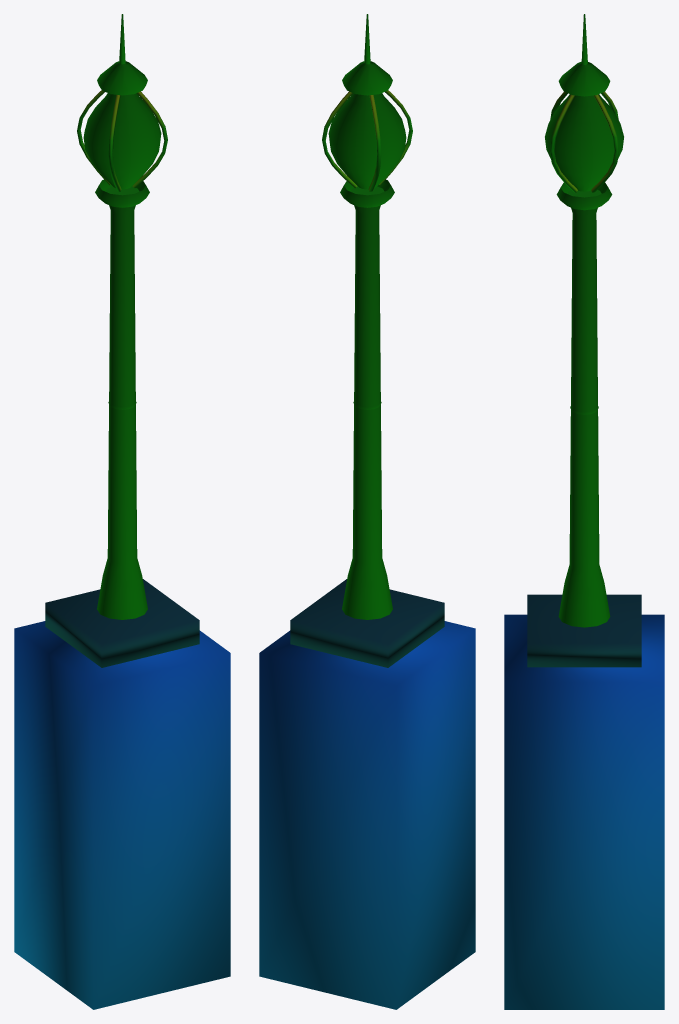
The model's file is gold_lamp_post.glb.
3 renders of one model, left to right at view 1: azimuth 30°, elevation 25°; view 2: azimuth 150°, elevation 25°; view 3: azimuth 270°, elevation 25°, orthographic.
Visible parts, largest first — view 1: gold_lamp_post; view 2: gold_lamp_post; view 3: gold_lamp_post.
Boxes of the visible parts, x1=… form: gold_lamp_post: x1=14, y1=14, x2=230, y2=1009; gold_lamp_post: x1=259, y1=14, x2=475, y2=1009; gold_lamp_post: x1=504, y1=14, x2=664, y2=1009.
Size of what is drawn, in the model's own units: 0.8062 by 5.33 by 0.8062.
